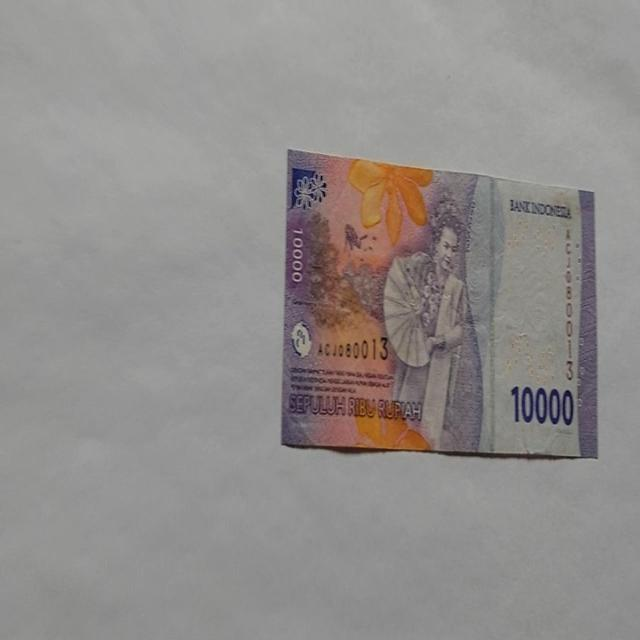Kertas: (280, 146, 598, 458), (510, 382, 574, 428)
